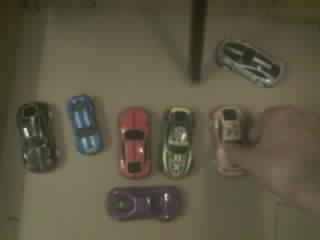Car: (216, 40, 283, 86), (17, 102, 57, 172), (209, 105, 245, 175), (107, 186, 180, 220), (160, 106, 194, 178), (118, 107, 151, 178), (67, 95, 102, 154)
